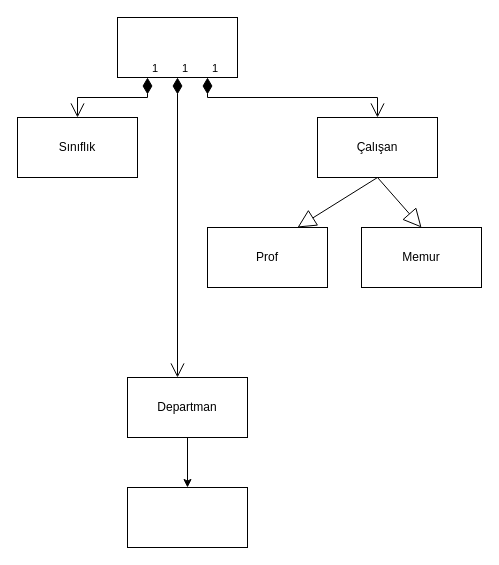
Some shapes in this 499 by 565 pixel diagram are drawn without their labels. The shapes that lost their labels are listed below. From the top down, each one's centre as x and y in pixels, then its label:
At (x=177, y=47): "Üniversite".
At (x=187, y=517): "Ofis".
